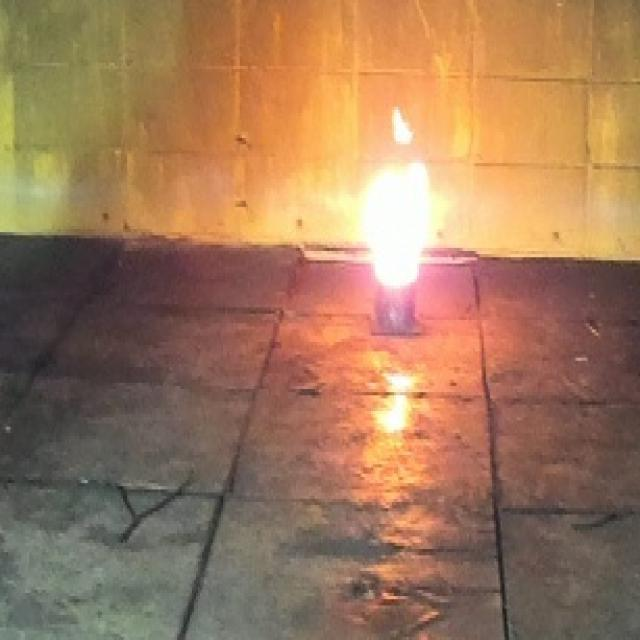Fire: (364, 106, 430, 290)
